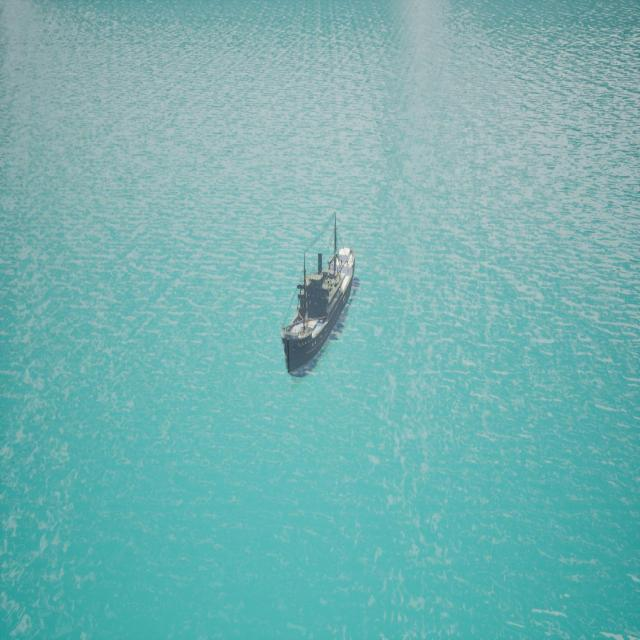fishing ship: (279, 247, 360, 379)
